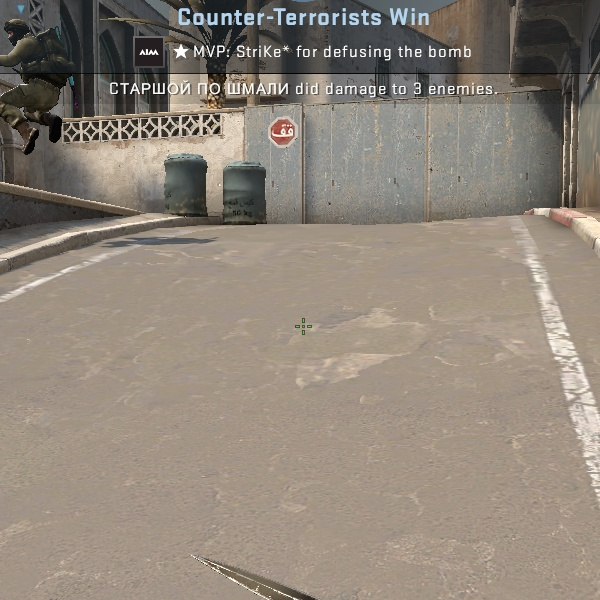ct_body: (3, 18, 69, 155)
ct_head: (3, 17, 32, 45)
